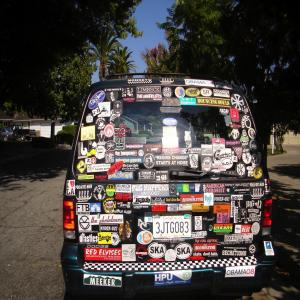Vehicle-registration-plate: (152, 214, 192, 240)
